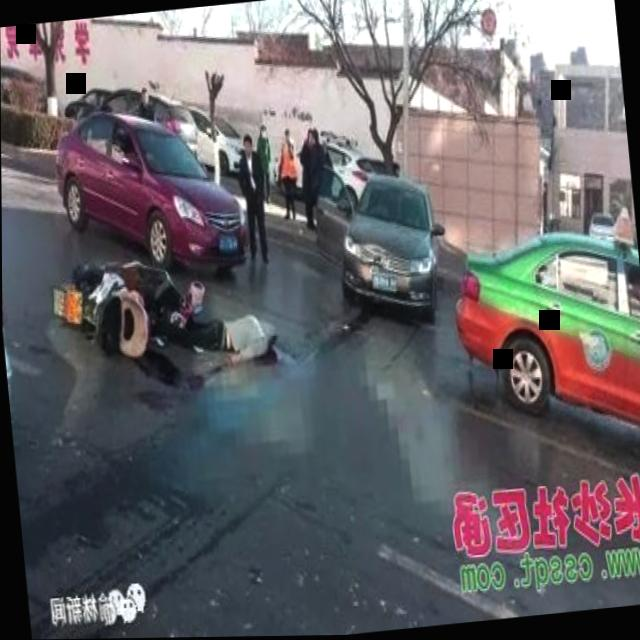Fall-Detected: (171, 273, 285, 382)
